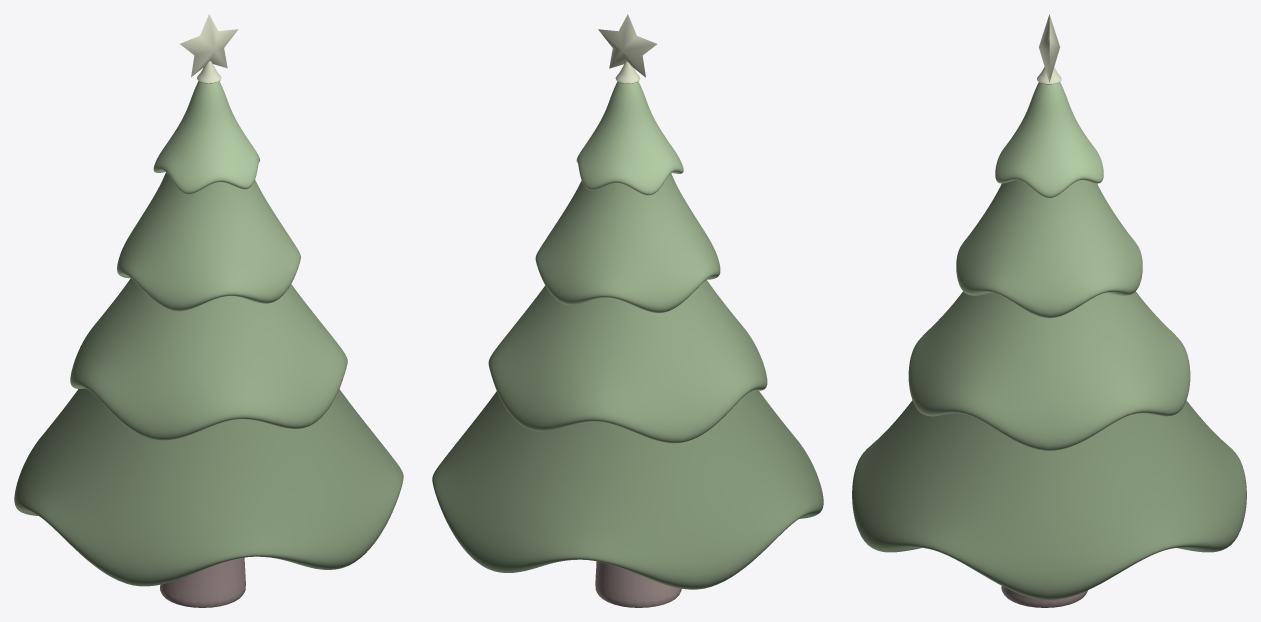
Rendered from tree_star.glb.
3 views of the same model, side by side, from view 1: azimuth 30°, elevation 25°; view 2: azimuth 150°, elevation 25°; view 3: azimuth 270°, elevation 25° (orthographic).
Parts seen in each view (by area): view 1: Null.1, Cylinder.1, Extrude; view 2: Null.1, Cylinder.1, Extrude; view 3: Null.1, Extrude, Cylinder.1.
Part boxes in pixels (x1,y1,x2,y2): Null.1: [14, 81, 403, 586]; Cylinder.1: [160, 557, 245, 607]; Extrude: [180, 14, 238, 77]; Null.1: [432, 81, 823, 589]; Cylinder.1: [595, 561, 681, 607]; Extrude: [598, 14, 657, 77]; Null.1: [852, 82, 1246, 599]; Extrude: [1039, 14, 1059, 82]; Cylinder.1: [1001, 586, 1087, 607].
Size of the model in its own units: 5.4 by 8.79 by 5.41.
